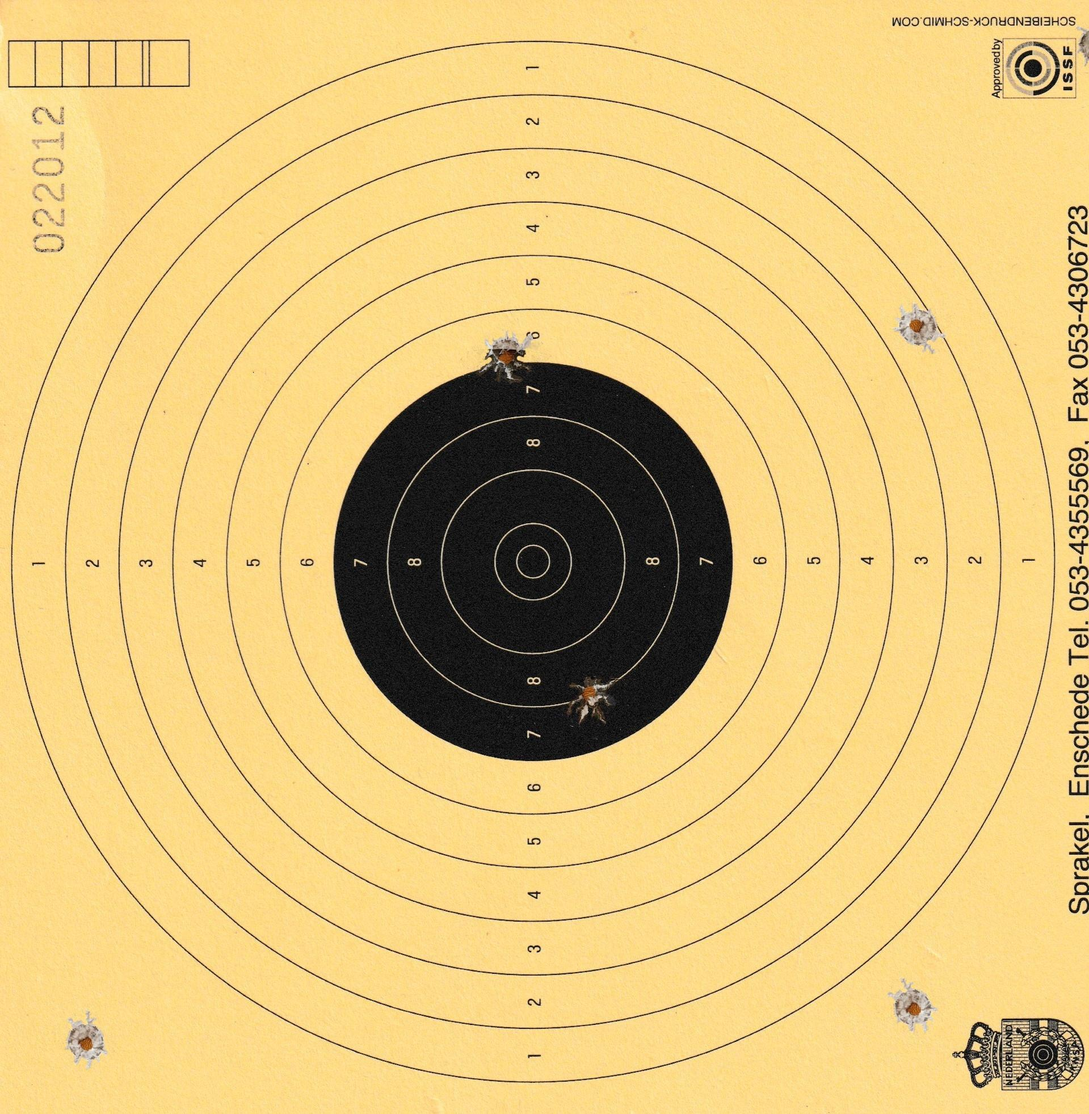hole: (883, 972, 947, 1039), (891, 296, 948, 359), (473, 331, 537, 386), (566, 674, 621, 727), (62, 1011, 109, 1071), (1069, 15, 1089, 68)
